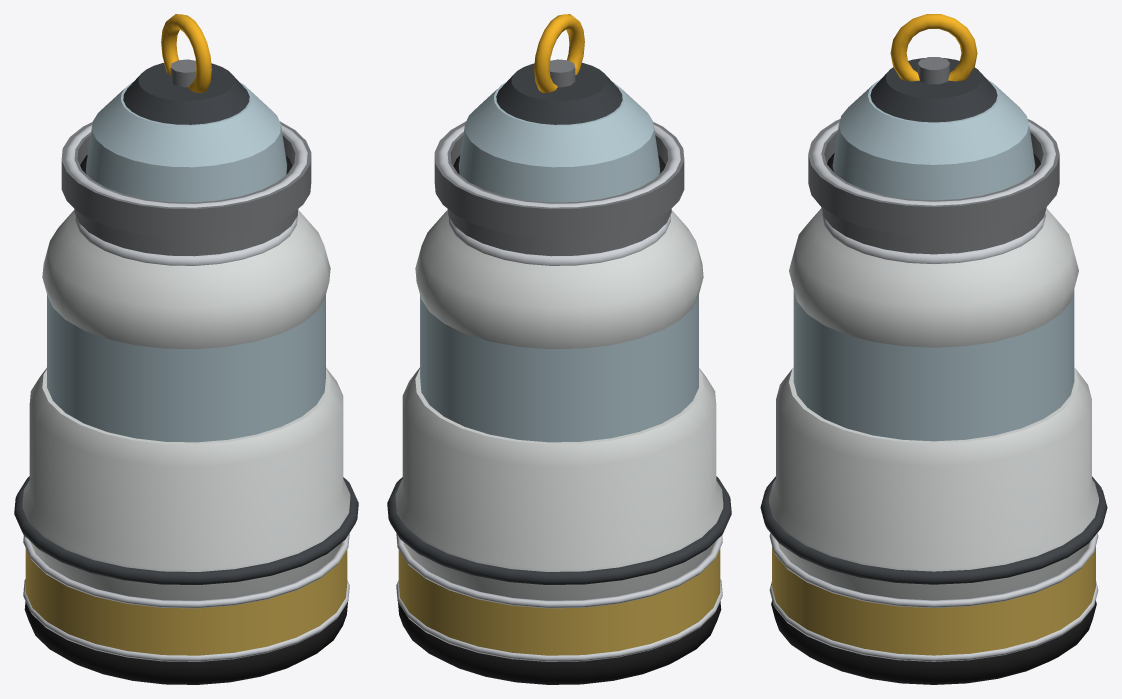
Rendered from storm_flask.fbx.
3 views of the same model, side by side, from view 1: azimuth 30°, elevation 25°; view 2: azimuth 150°, elevation 25°; view 3: azimuth 270°, elevation 25° (orthographic).
Visible parts, largest first — view 1: Mesh_FlaskBody_Shouldered_Shell, Mesh_FlaskBody_Shouldered_Cowl, Mesh_FlaskBody_Shouldered_Window, Mesh_FlaskCollar_Stopper_Plug, Mesh_StormFlask_Band, Mesh_FlaskCollar_Stopper_Ring, Mesh_FlaskBody_Shouldered_Bumper, Mesh_FlaskCollar_Stopper_PullRing; view 2: Mesh_FlaskBody_Shouldered_Shell, Mesh_FlaskBody_Shouldered_Cowl, Mesh_FlaskBody_Shouldered_Window, Mesh_FlaskCollar_Stopper_Plug, Mesh_StormFlask_Band, Mesh_FlaskCollar_Stopper_Ring, Mesh_FlaskBody_Shouldered_Bumper, Mesh_FlaskCollar_Stopper_PullRing; view 3: Mesh_FlaskBody_Shouldered_Shell, Mesh_FlaskBody_Shouldered_Cowl, Mesh_FlaskBody_Shouldered_Window, Mesh_FlaskCollar_Stopper_Plug, Mesh_StormFlask_Band, Mesh_FlaskCollar_Stopper_Ring, Mesh_FlaskBody_Shouldered_Bumper, Mesh_FlaskCollar_Stopper_PullRing.
Part boxes in pixels (x1,y1,x2,y2): Mesh_FlaskBody_Shouldered_Shell: [14, 367, 358, 600]; Mesh_FlaskBody_Shouldered_Cowl: [42, 210, 330, 349]; Mesh_FlaskBody_Shouldered_Window: [47, 295, 325, 442]; Mesh_FlaskCollar_Stopper_Plug: [80, 63, 292, 202]; Mesh_StormFlask_Band: [23, 533, 349, 661]; Mesh_FlaskCollar_Stopper_Ring: [61, 121, 311, 256]; Mesh_FlaskBody_Shouldered_Bumper: [24, 601, 347, 684]; Mesh_FlaskCollar_Stopper_PullRing: [161, 14, 211, 92]; Mesh_FlaskBody_Shouldered_Shell: [387, 367, 731, 600]; Mesh_FlaskBody_Shouldered_Cowl: [415, 210, 703, 349]; Mesh_FlaskBody_Shouldered_Window: [420, 295, 698, 442]; Mesh_FlaskCollar_Stopper_Plug: [453, 63, 665, 202]; Mesh_StormFlask_Band: [396, 533, 722, 661]; Mesh_FlaskCollar_Stopper_Ring: [434, 121, 684, 256]; Mesh_FlaskBody_Shouldered_Bumper: [398, 601, 721, 684]; Mesh_FlaskCollar_Stopper_PullRing: [534, 14, 584, 92]; Mesh_FlaskBody_Shouldered_Shell: [760, 367, 1107, 600]; Mesh_FlaskBody_Shouldered_Cowl: [789, 208, 1078, 347]; Mesh_FlaskBody_Shouldered_Window: [793, 289, 1074, 441]; Mesh_FlaskCollar_Stopper_Plug: [827, 58, 1040, 200]; Mesh_StormFlask_Band: [769, 533, 1098, 661]; Mesh_FlaskCollar_Stopper_Ring: [808, 119, 1059, 254]; Mesh_FlaskBody_Shouldered_Bumper: [771, 600, 1096, 684]; Mesh_FlaskCollar_Stopper_PullRing: [890, 14, 977, 84].
Bounding box in the file's own units: 10.76 × 20.98 × 10.76.
